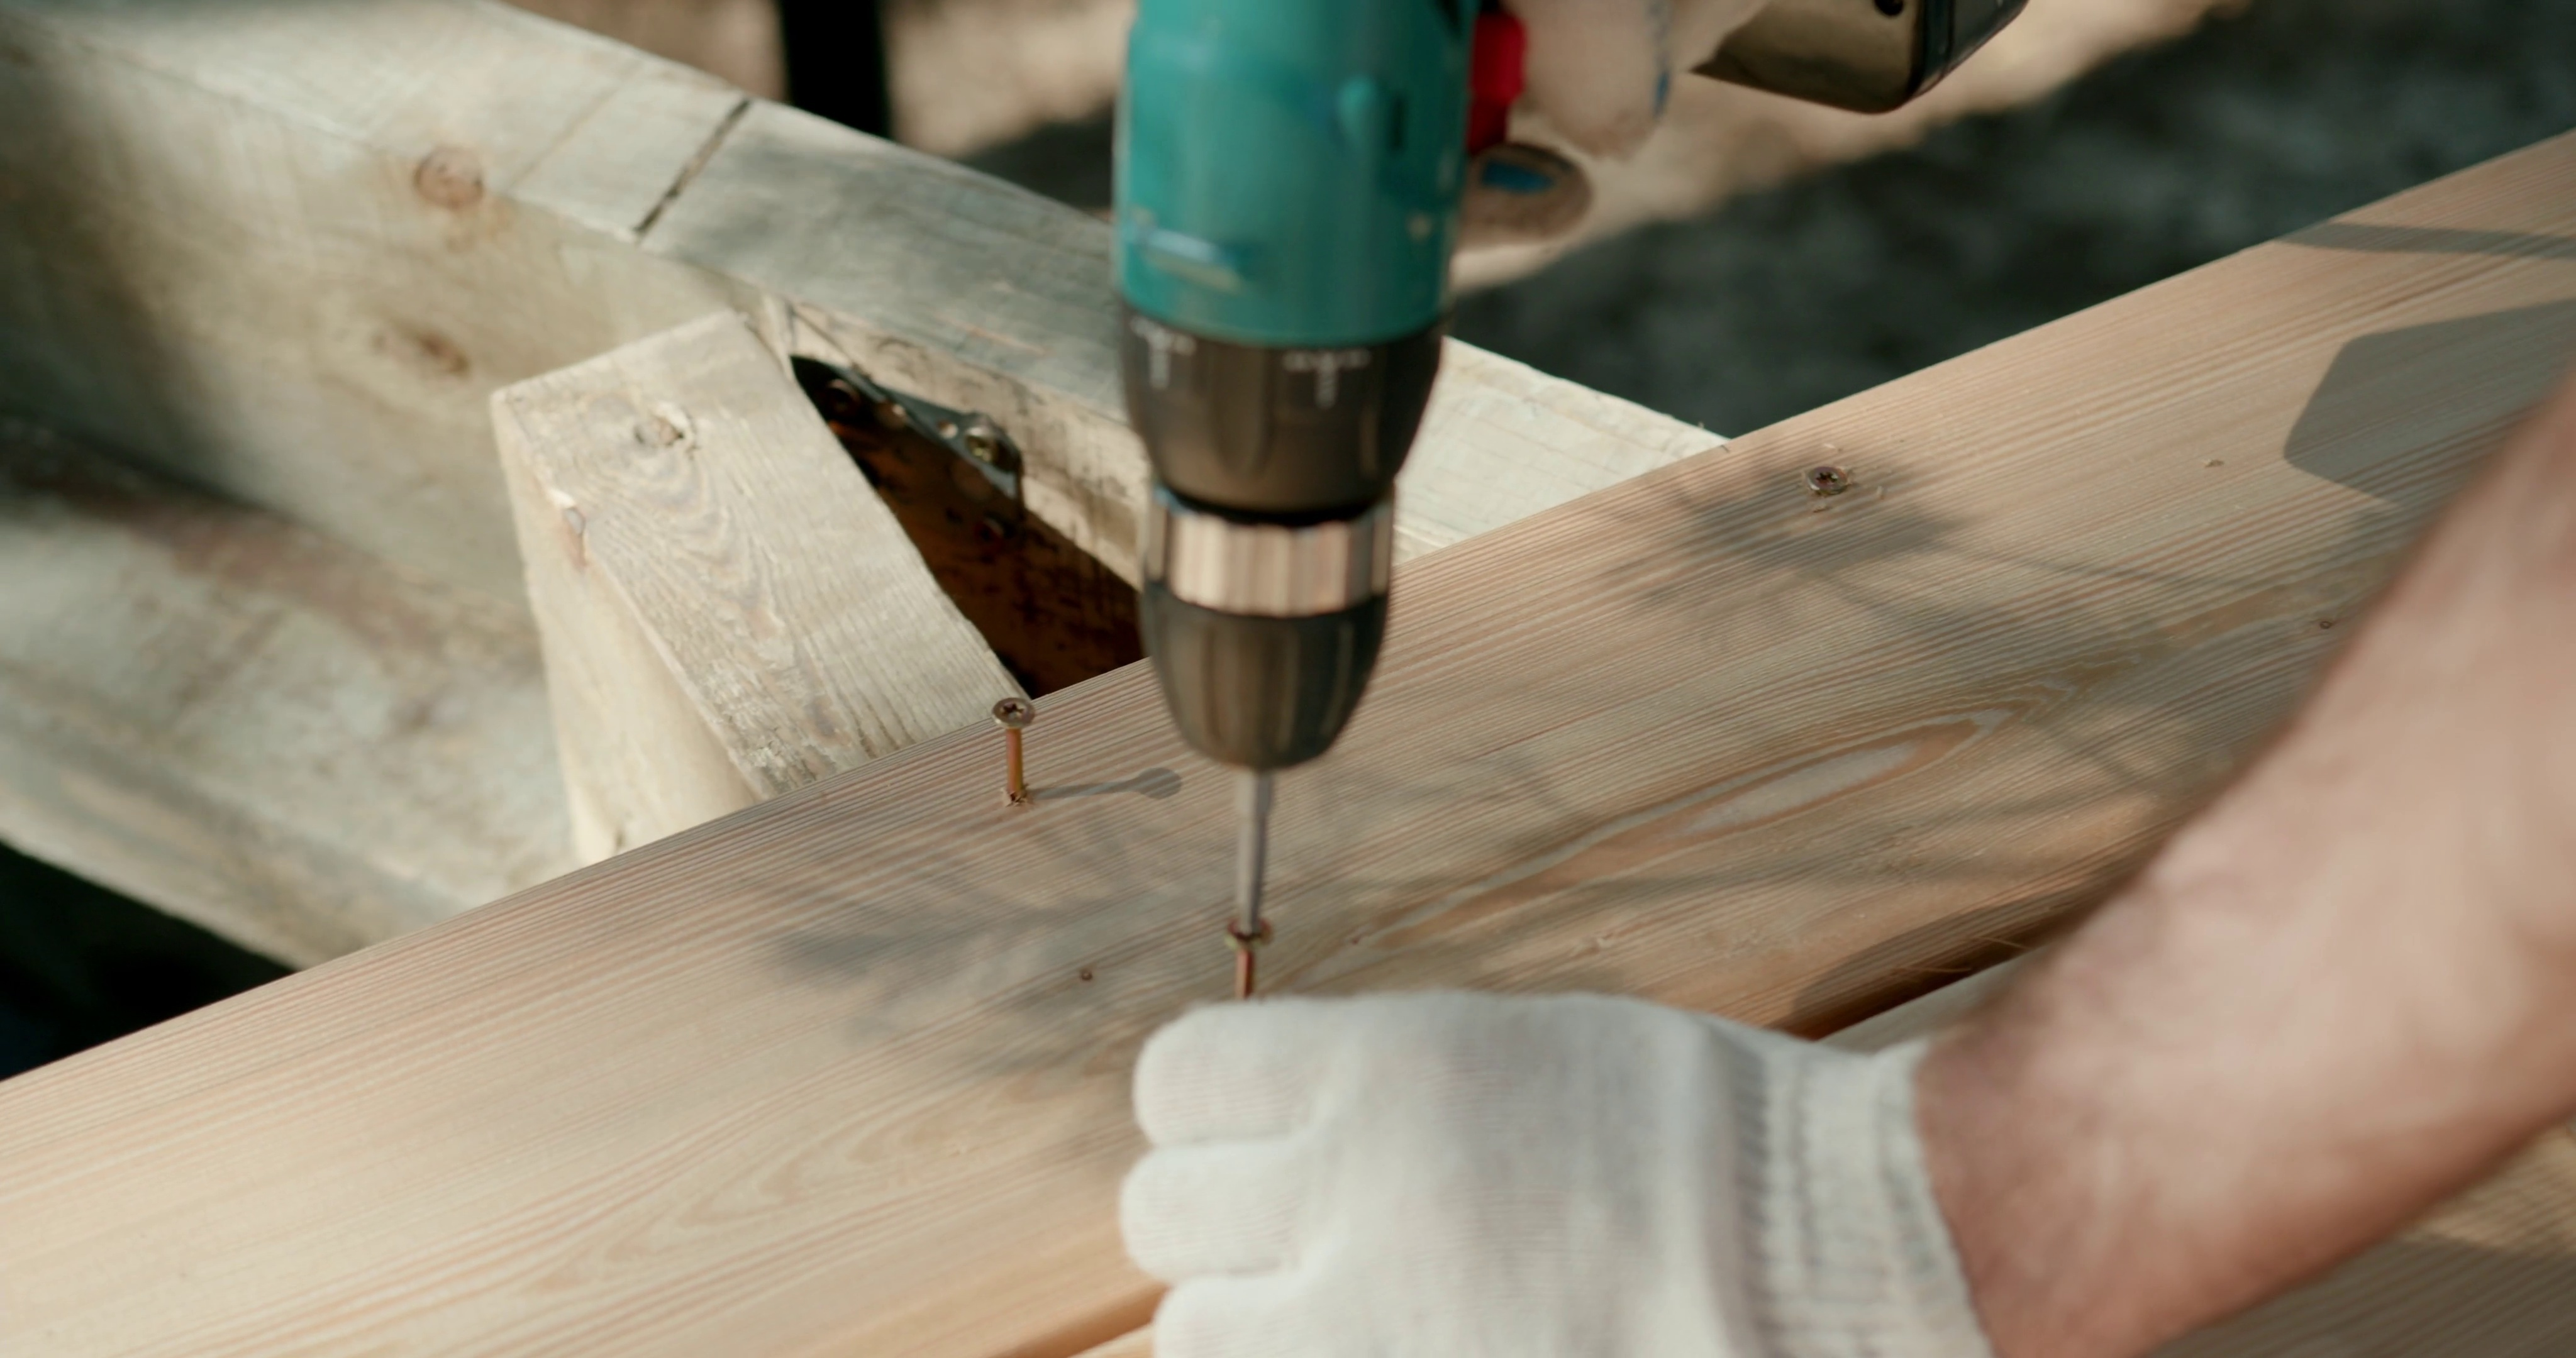driller: (1107, 3, 1484, 937)
